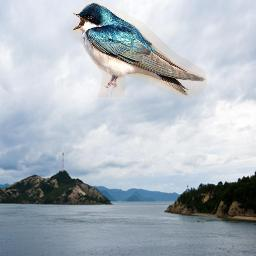Swallow: (70, 1, 207, 97)
